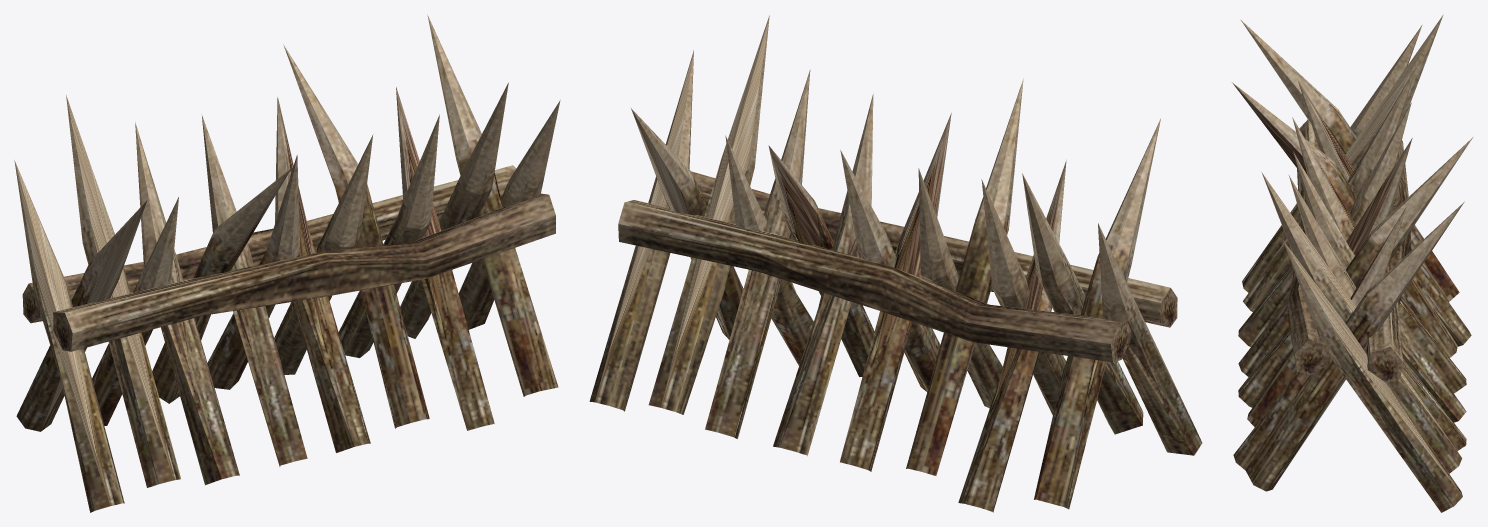
The model's file is desert_woodfence02_lod_01.glb.
3 renders of one model, left to right at view 1: azimuth 30°, elevation 25°; view 2: azimuth 150°, elevation 25°; view 3: azimuth 270°, elevation 25°, orthographic. The views are drawn at different scales.
Parts seen in each view (by area): view 1: desert_wood01; view 2: desert_wood01; view 3: desert_wood01.
Boxes of the visible parts, x1,y1,x2,y2 form: desert_wood01: (14,14,560,512); desert_wood01: (589,15,1202,512); desert_wood01: (1232,15,1472,512).
Size of the model in its own units: 3.52 by 2.32 by 1.6.
Materials: 1 (1 with a texture image).
